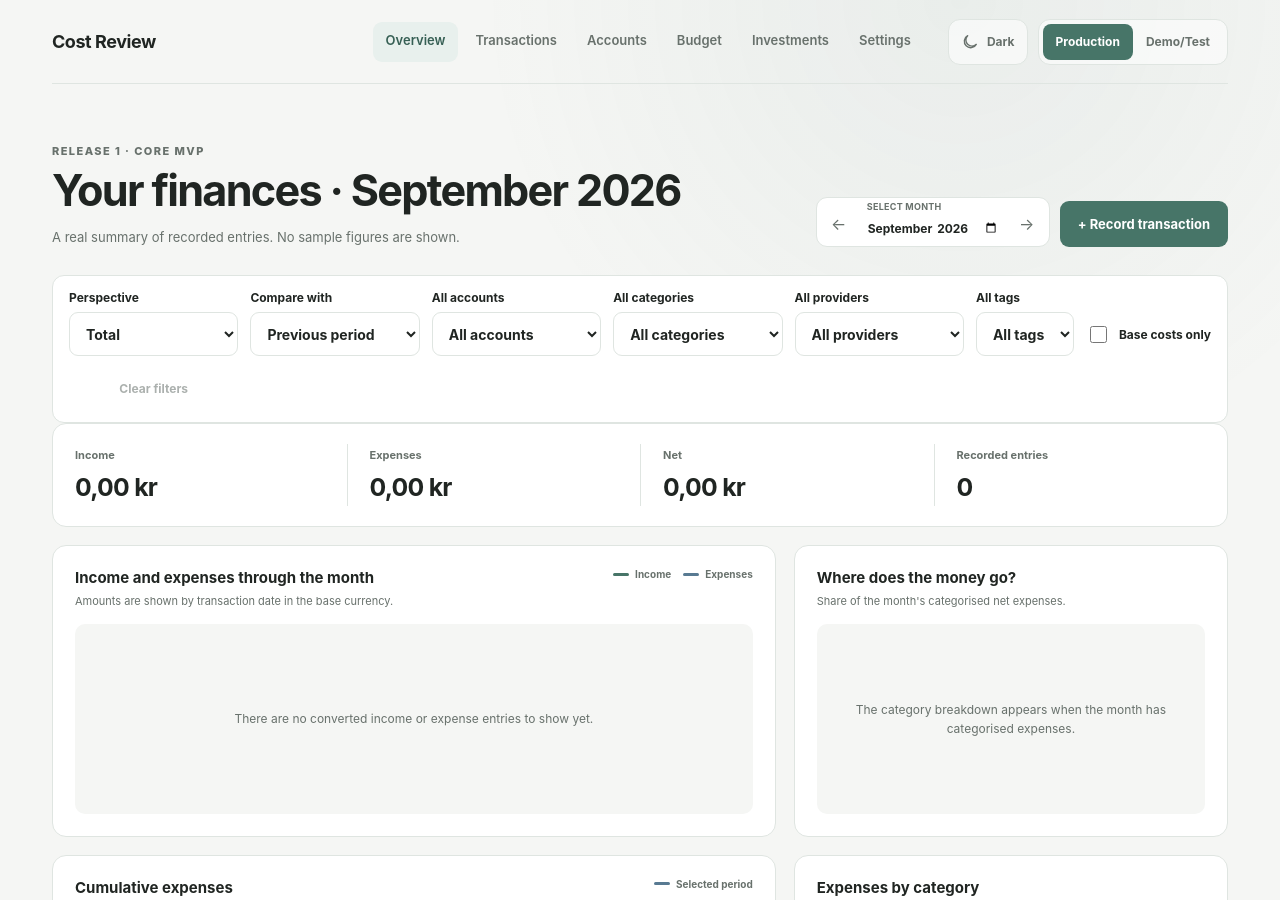
Test: App › opens the single-page investment workspace from the primary navigation
Expected: the heading "Your finances · September 2026" is shown, [52,167,681,214]
Step 1. Click the link "Investments" → (790, 40), box [752,32,829,48]
(page scrolled)
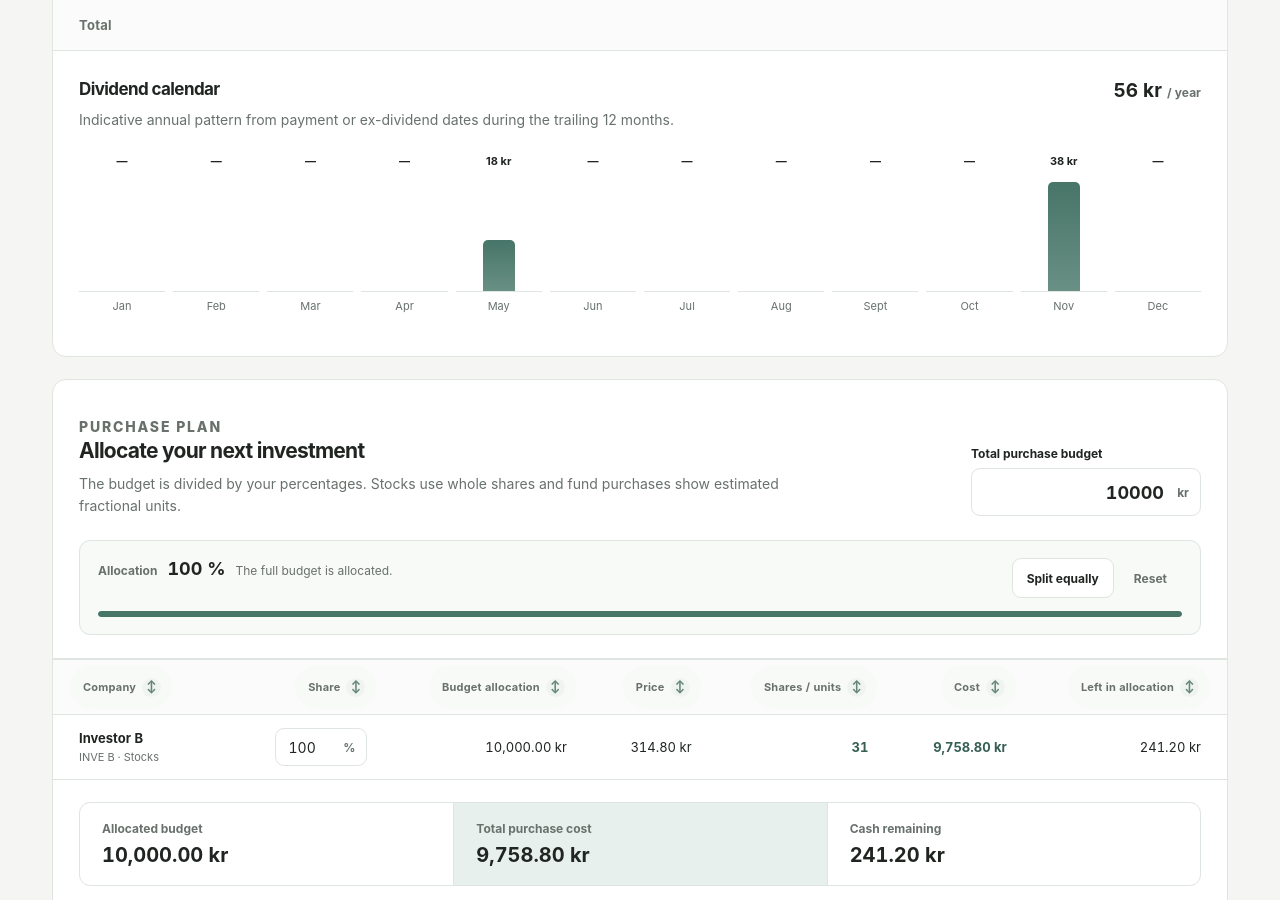
Expected: the heading "Allocate your next investment" is shown, [79,438,364,463]
